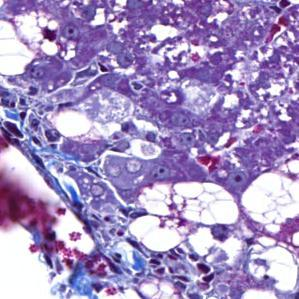ballooning: (136, 178, 241, 228), (241, 157, 296, 236), (238, 234, 296, 295)
